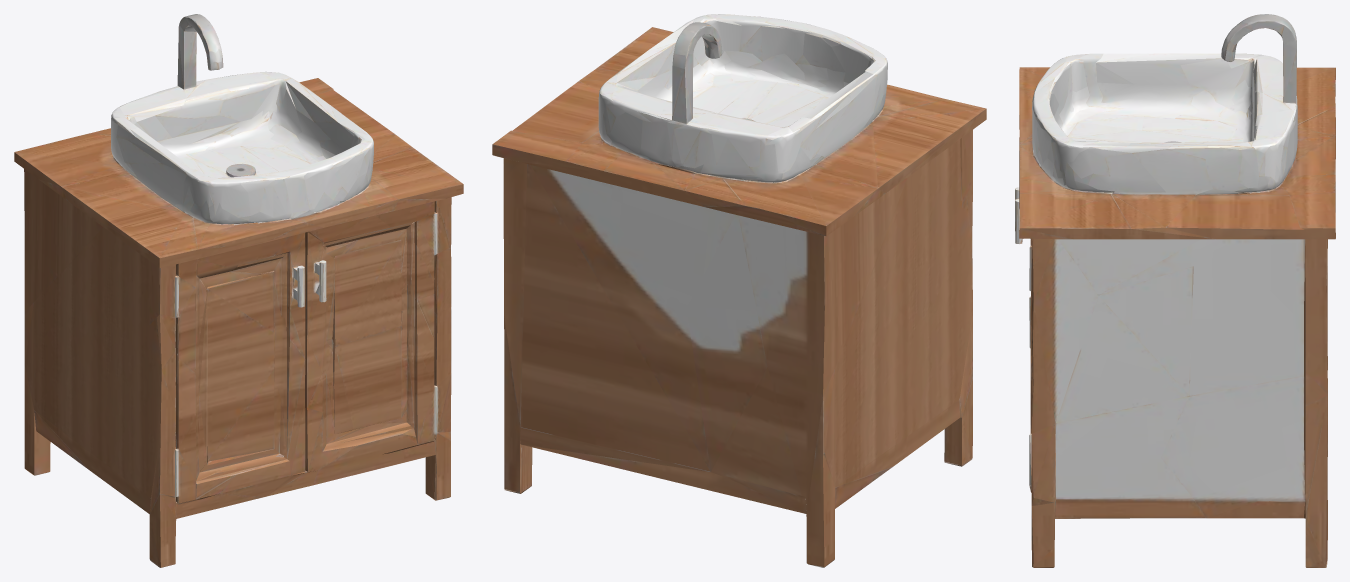
File: washbasin.glb
3 renders of one model, left to right at view 1: azimuth 30°, elevation 25°; view 2: azimuth 150°, elevation 25°; view 3: azimuth 270°, elevation 25°, orthographic. The views are drawn at different scales.
Size of the model in its own units: 1.38 by 1.9 by 1.16.
Materials: 1 (1 with a texture image).
